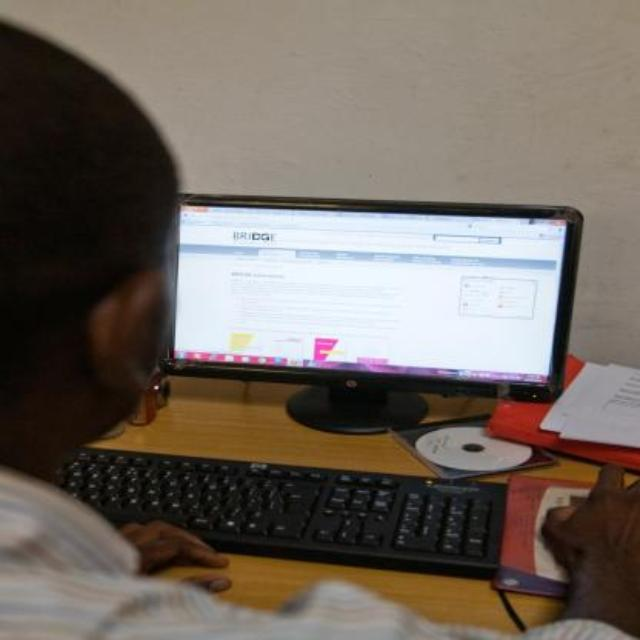Computer-Keyboard: (69, 444, 531, 574)
Flat-Panel-Monitor: (168, 198, 572, 420)
